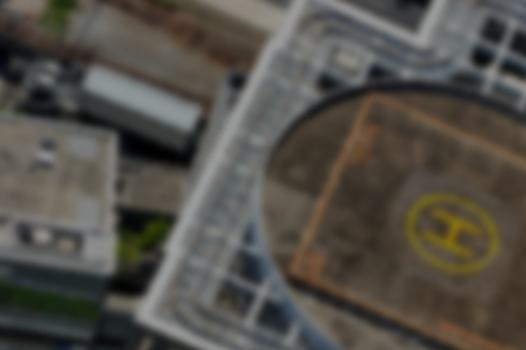Apron: (403, 175, 501, 281)
